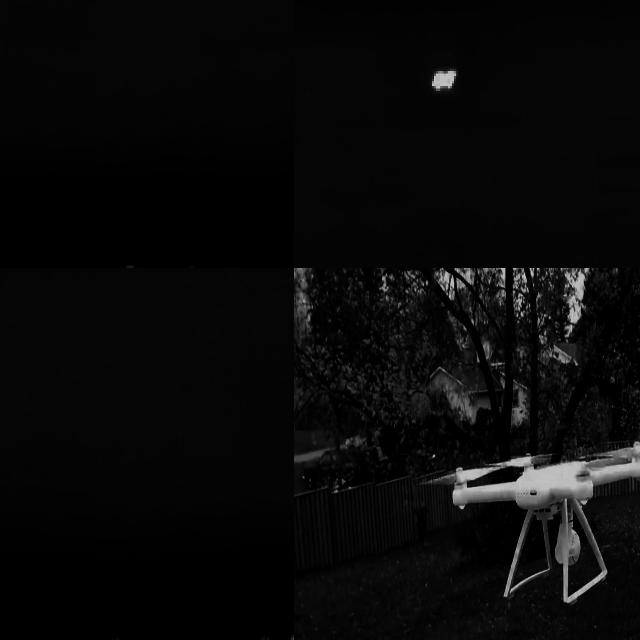1: (424, 66, 468, 98)
drone: (452, 446, 640, 606)
